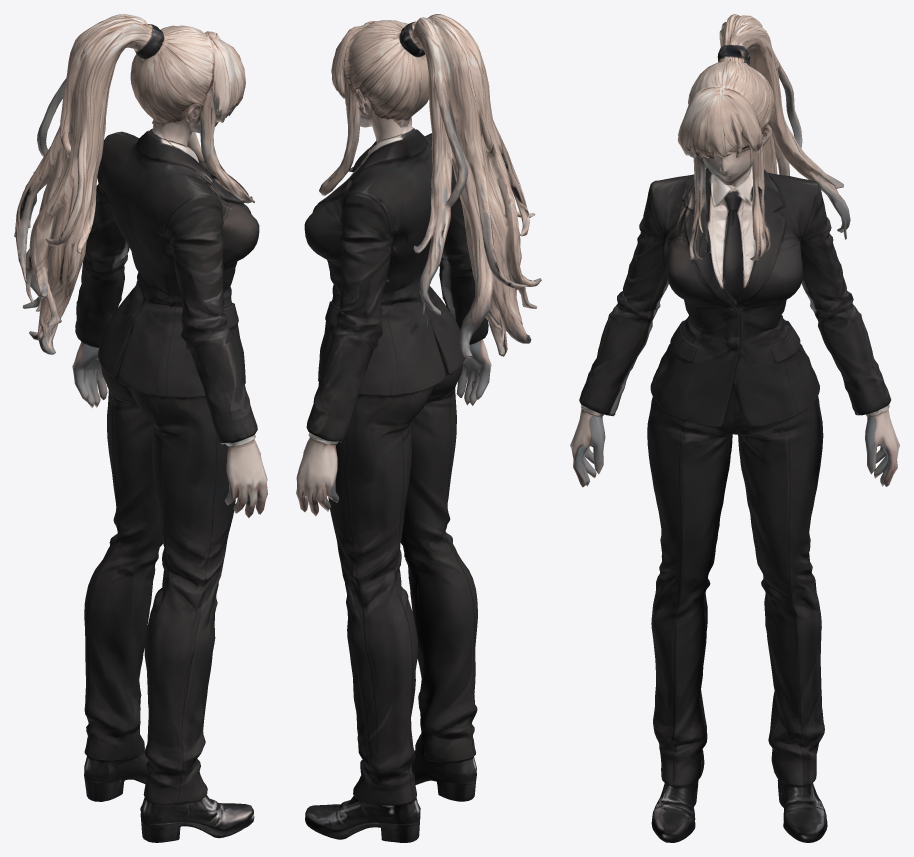
The model's file is eileen_model_tex_detailed.glb.
The picture shows the model from 3 angles, left to right: view 1: azimuth 30°, elevation 25°; view 2: azimuth 150°, elevation 25°; view 3: azimuth 270°, elevation 25°; orthographic projection. The views are drawn at different scales.
Parts seen in each view (by area): view 1: tripo_node_d45c0f57-aab0-48b2-8995-b268de4125ca; view 2: tripo_node_d45c0f57-aab0-48b2-8995-b268de4125ca; view 3: tripo_node_d45c0f57-aab0-48b2-8995-b268de4125ca.
Part boxes in pixels (x1,y1,x2,y2): tripo_node_d45c0f57-aab0-48b2-8995-b268de4125ca: (14, 14, 267, 842); tripo_node_d45c0f57-aab0-48b2-8995-b268de4125ca: (296, 14, 541, 842); tripo_node_d45c0f57-aab0-48b2-8995-b268de4125ca: (570, 14, 899, 842).
Bounding box in the file's own units: 0.2708 × 1 × 0.3828.
1 material, 1 textured.
